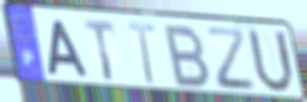A: (45, 18, 91, 80)
B: (163, 23, 213, 90)
T: (81, 18, 117, 84), (125, 19, 158, 86)
U: (245, 26, 297, 97)
Z: (203, 26, 259, 93)
